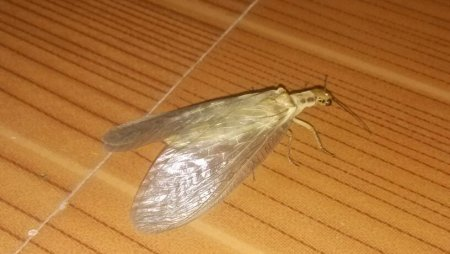feie: (104, 66, 372, 225)
